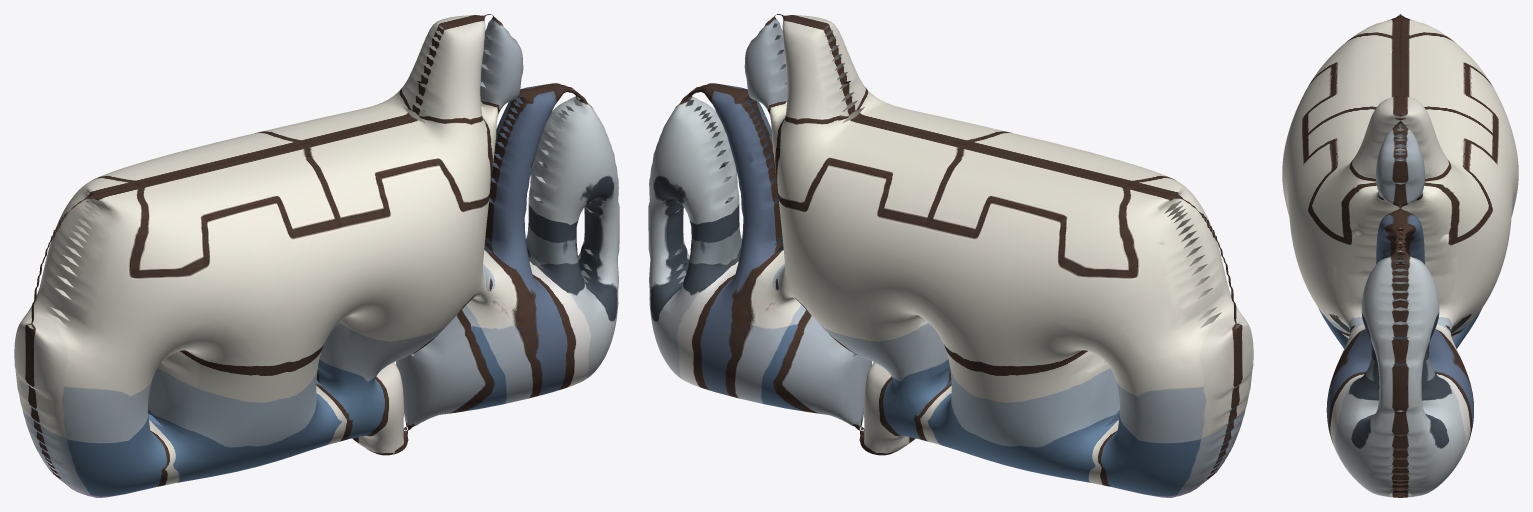
Rendered from docking_cylinder.glb.
The picture shows the model from 3 angles, left to right: view 1: azimuth 30°, elevation 25°; view 2: azimuth 150°, elevation 25°; view 3: azimuth 270°, elevation 25°; orthographic projection. The views are drawn at different scales.
Parts seen in each view (by area): view 1: docking_cylinder; view 2: docking_cylinder; view 3: docking_cylinder.
Boxes of the visible parts, x1=… form: docking_cylinder: x1=14, y1=14, x2=619, y2=497; docking_cylinder: x1=648, y1=14, x2=1253, y2=497; docking_cylinder: x1=1282, y1=14, x2=1518, y2=497.
Bounding box in the file's own units: 0.989 × 0.6454 × 0.3803.
1 material, 1 textured.
